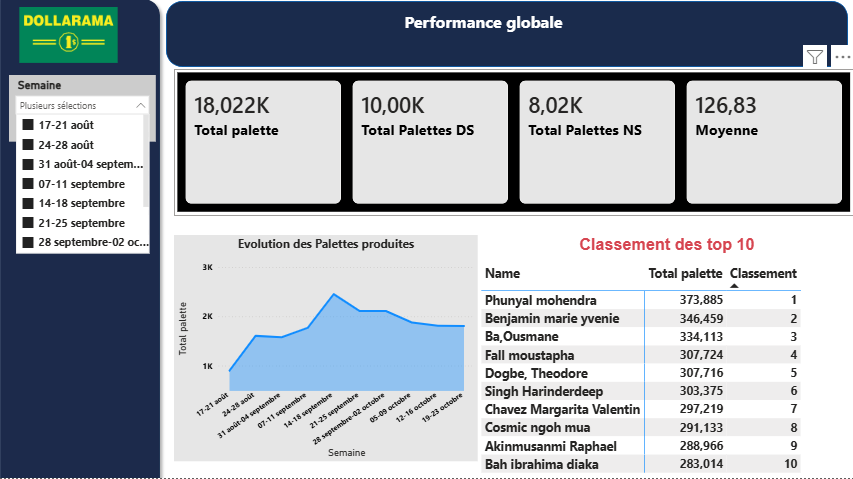

The page's visual inventory and layout, read from the dashboard file:
{"tool":"powerbi","page":{"name":"Page 1","canvas":[1280,720],"ordinal":0},"visuals":[{"type":"shape","box":[255.4,11.9,1012.7,98],"z":5},{"type":"shape","box":[0,0,255.4,849.4],"z":6},{"type":"textbox","box":[403.9,20.8,645.9,68.3],"z":8},{"type":"image","box":[35.6,20.8,150,83.2],"z":9},{"type":"slicer","fields":{"Values":["Table.Semaine"]},"box":[22.3,121.8,218.3,66.8],"z":10},{"type":"areaChart","title":"Evolution  des Palettes produites","fields":{"Category":["Table.Semaine"],"Y":["Mesures.Total palette"]},"box":[267.2,359.1,451.1,335.5],"z":12},{"type":"cardVisual","fields":{"Data":["Mesures.Total palette","Mesures.Total Palettes DS","Mesures.Total Palettes NS","Mesures.Moyenne"]},"box":[267.2,113.1,1012.8,217.5],"z":13},{"type":"pivotTable","title":"Classement  par palettes produites","fields":{"Rows":["Table.Name"],"Values":["Mesures.Total palette","Mesures.Rang Pal"]},"box":[718.7,359.4,561.3,349],"z":14}]}

Visuals, with their boxes on the page's 1280x720 design canvas (x1, y1, x2, y2). These are canvas units, not pixel positions in the 853x479 screenshot, which may show the page scaled, cropped or inside an application window:
shape: 255:12:1268:110
shape: 0:0:255:849
textbox: 404:21:1050:89
image: 36:21:186:104
slicer - Table.Semaine: 22:122:241:189
"Evolution  des Palettes produites" areaChart: 267:359:718:695
cardVisual - Mesures.Total palette x Mesures.Total Palettes DS: 267:113:1280:331
"Classement  par palettes produites" pivotTable: 719:359:1280:708
